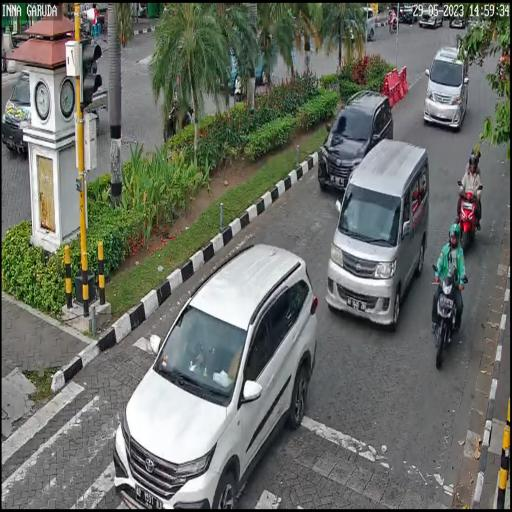mobil: (112, 240, 321, 508), (326, 139, 429, 327), (318, 90, 393, 189), (424, 46, 470, 131)
motor: (430, 263, 468, 370), (457, 179, 483, 252)
